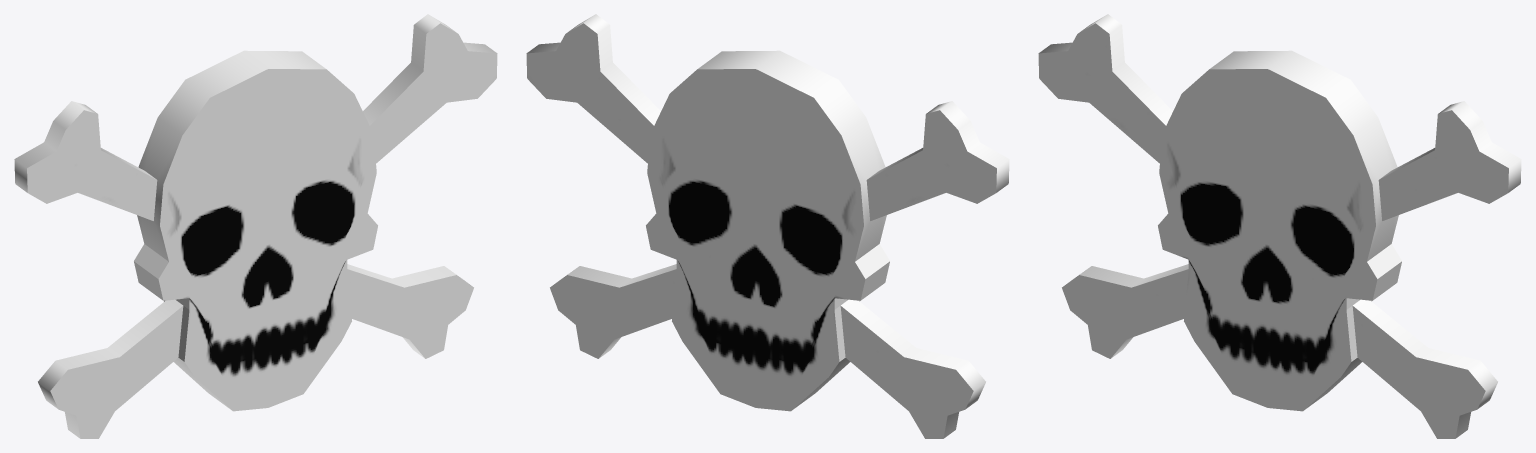
The model's file is GAM0110019.fbx.
3 views of the same model, side by side, from view 1: azimuth 30°, elevation 25°; view 2: azimuth 150°, elevation 25°; view 3: azimuth 330°, elevation 25° (orthographic).
Visible parts, largest first — view 1: smGAM0110019; view 2: smGAM0110019; view 3: smGAM0110019.
Boxes of the visible parts, x1=… form: smGAM0110019: x1=14, y1=14, x2=497, y2=438; smGAM0110019: x1=526, y1=14, x2=1009, y2=438; smGAM0110019: x1=1038, y1=14, x2=1521, y2=438.
Size of the model in its own units: 61.93 by 42.65 by 5.64.
Materials: 1 (1 with a texture image).
